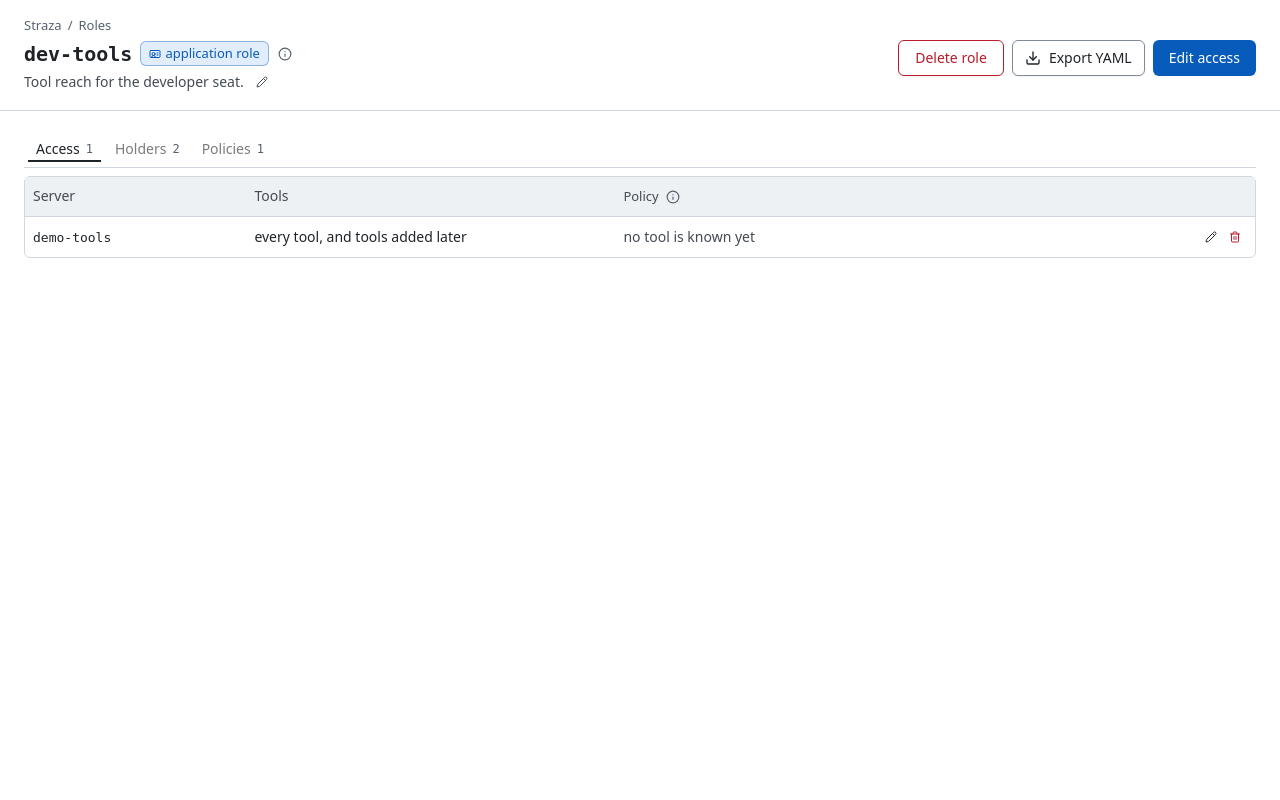
Test: a role's page › keeps a refused description in the dialog with the server's sentence, and stores nothing
The image size is (1280, 800).
expect the heading "dev-tools" is shown: met, box [24, 40, 132, 68]
Step 1. Click the button named "Change the description" → (262,82), box [250, 70, 274, 94]
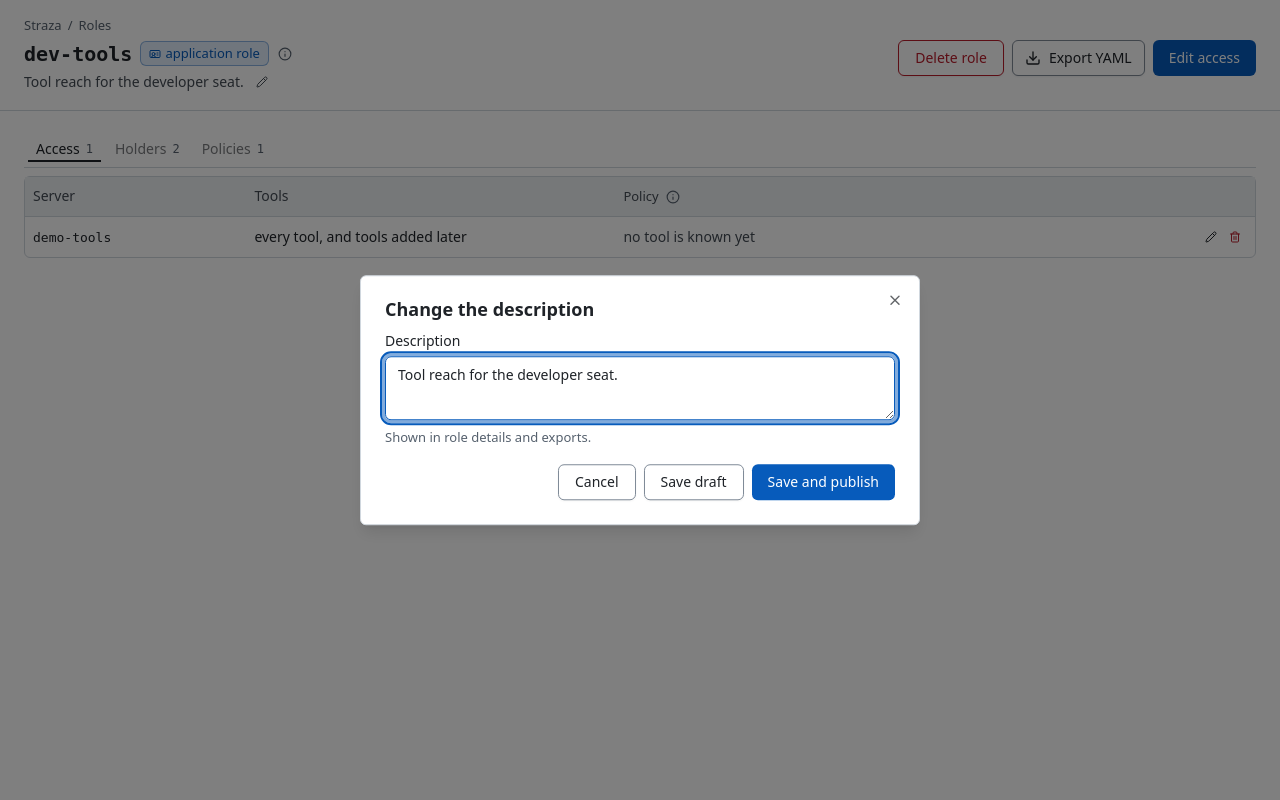
Step 2. Replace the text in the text box with "Reach." → (640,388), box [385, 356, 895, 420]
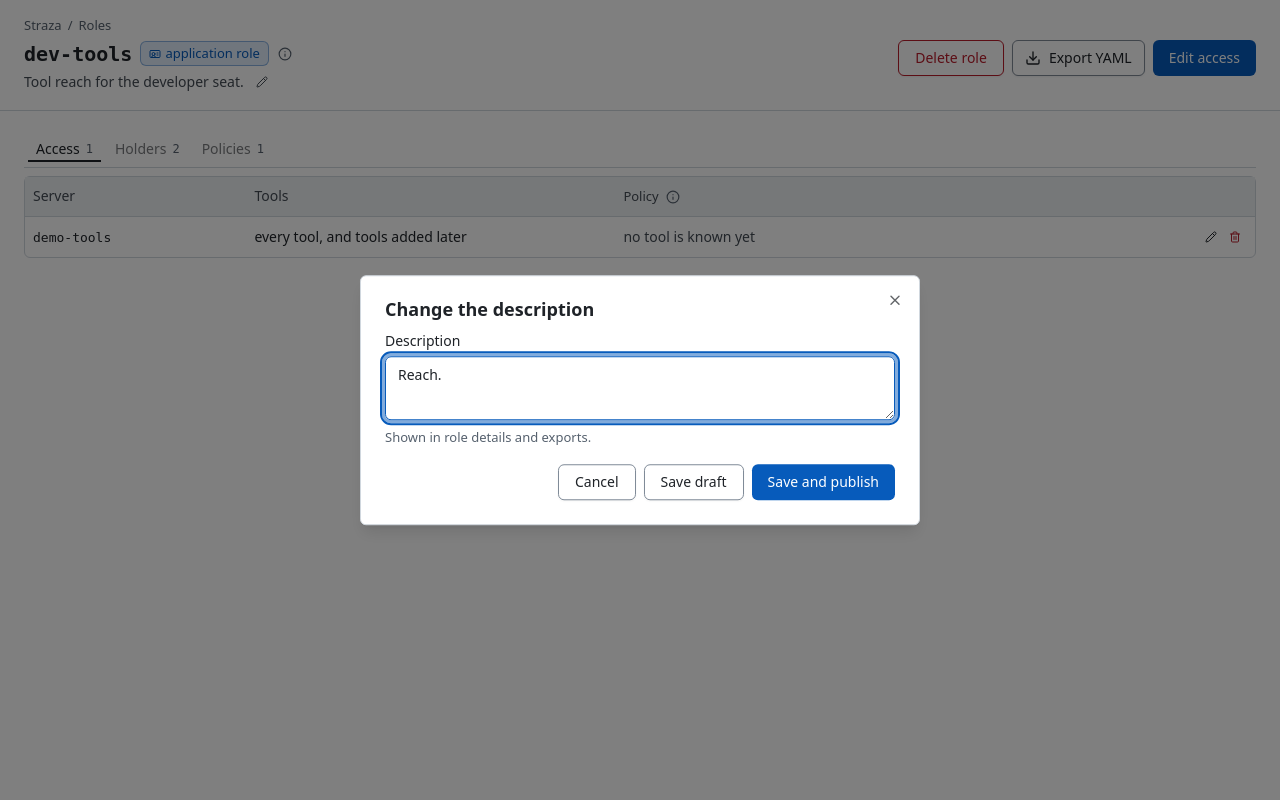
Step 3. Click the button "Save and publish" → (823,482), box [752, 464, 895, 500]
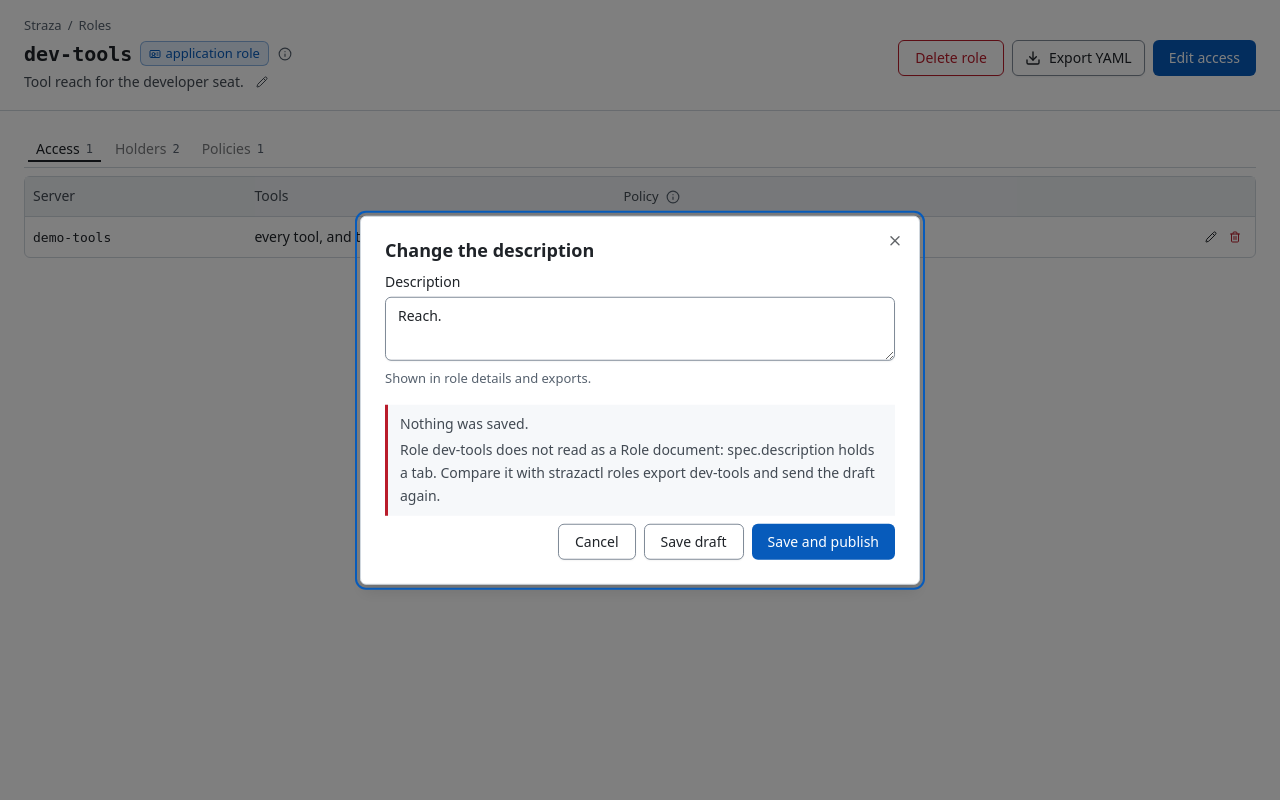
expect the message is shown: met, box [385, 404, 895, 515]
